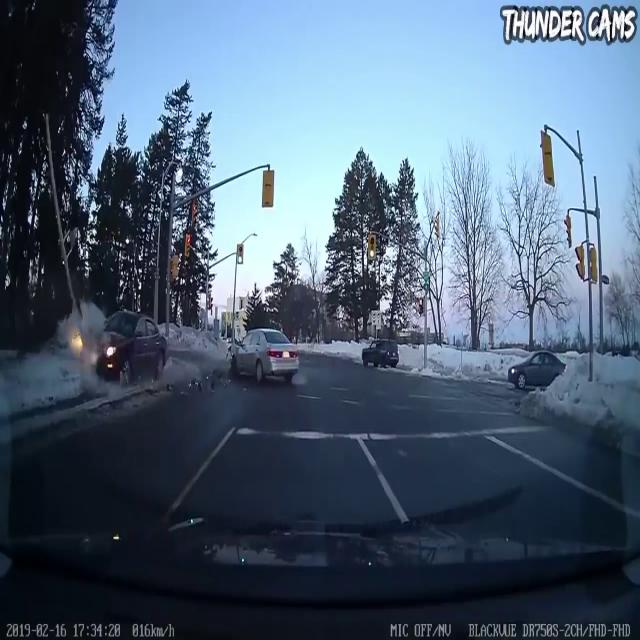accident: (71, 287, 161, 384), (214, 319, 308, 406)
